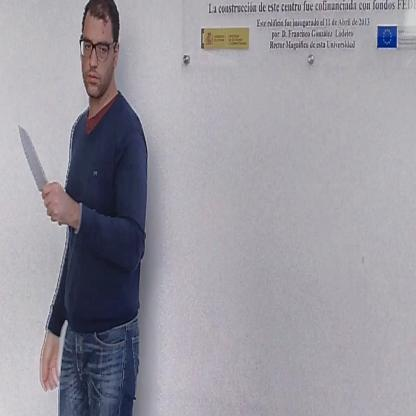knife: (14, 119, 64, 229)
